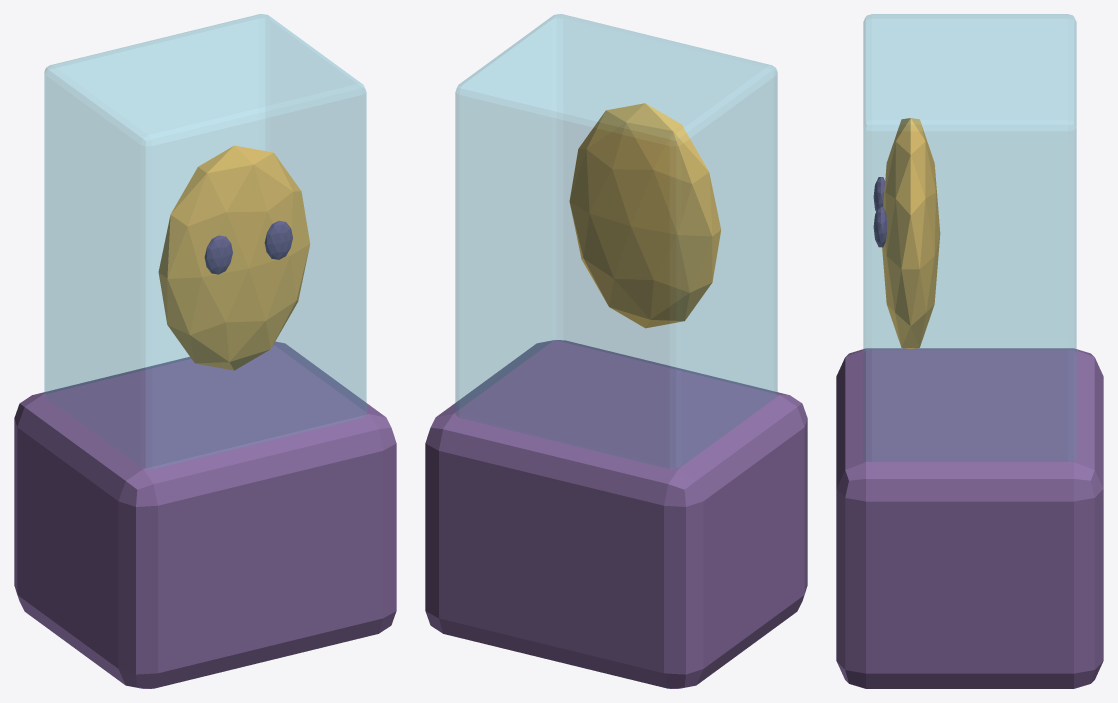
File: mask_case.glb
The picture shows the model from 3 angles, left to right: view 1: azimuth 30°, elevation 25°; view 2: azimuth 150°, elevation 25°; view 3: azimuth 270°, elevation 25°; orthographic projection. The views are drawn at different scales.
Visible parts, largest first — view 1: MaskDisplayMesh; view 2: MaskDisplayMesh; view 3: MaskDisplayMesh.
Part boxes in pixels (bbox=[...]): MaskDisplayMesh: bbox=[14, 14, 396, 688]; MaskDisplayMesh: bbox=[425, 14, 807, 688]; MaskDisplayMesh: bbox=[836, 14, 1103, 688].
Size of the model in its own units: 1.1 by 2.1 by 0.9.
